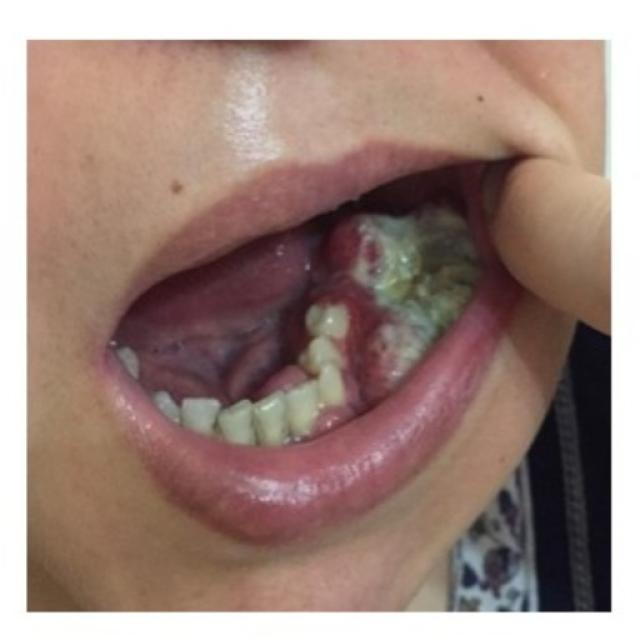cancer-detection: (317, 193, 485, 440)
processing_area: (125, 185, 490, 431)
